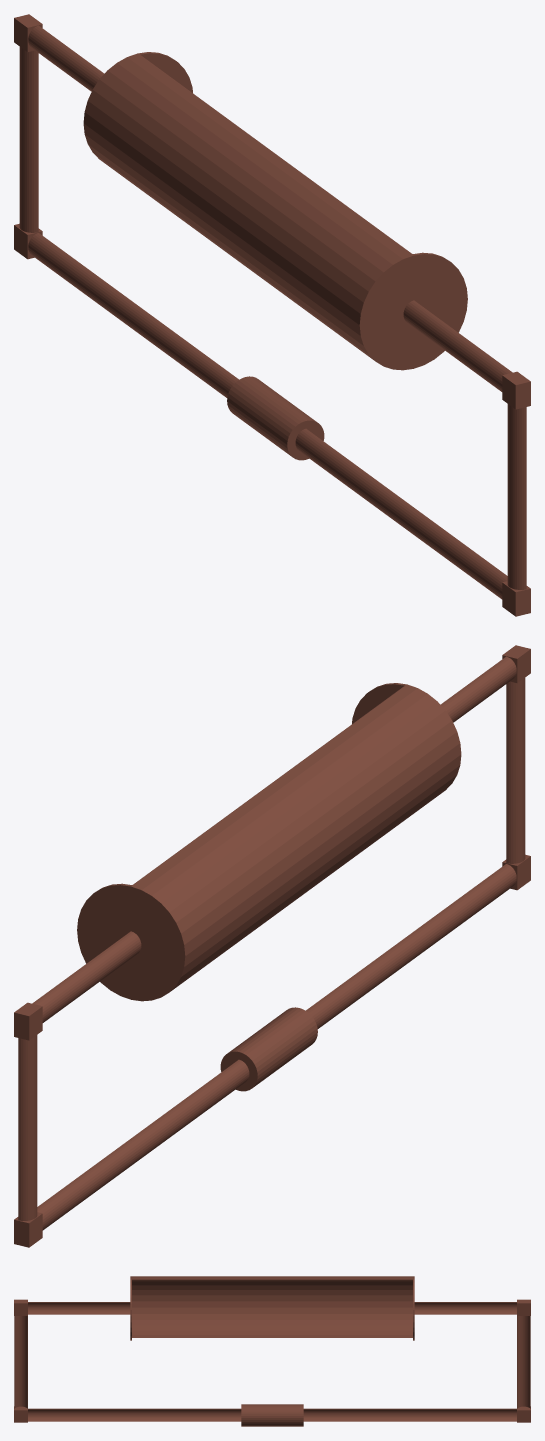
Rendered from Final FOE 3.gltf.
3 renders of one model, top to bottom at view 1: azimuth 30°, elevation 25°; view 2: azimuth 150°, elevation 25°; view 3: azimuth 270°, elevation 25°, orthographic. The views are drawn at different scales.
Parts seen in each view (by area): view 1: Cylinder; view 2: Cylinder; view 3: Cylinder.
Boxes of the visible parts, box(x1,y1,x2,y2) form: Cylinder: box(14, 14, 530, 616); Cylinder: box(14, 645, 530, 1247); Cylinder: box(14, 1276, 530, 1426).
Bounding box in the file's own units: 2.81 × 7.03 × 22.56.
